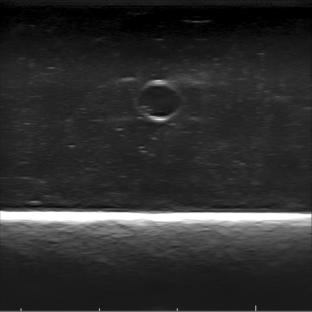vessel: (133, 79, 184, 122)
